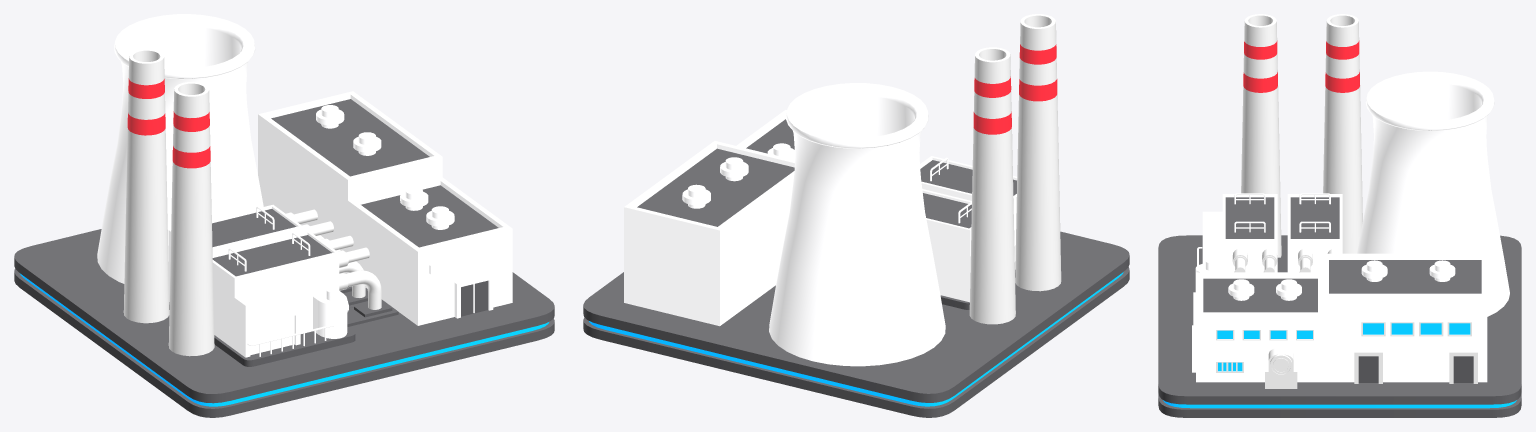
Rendered from 热源模型1.glb.
3 renders of one model, left to right at view 1: azimuth 30°, elevation 25°; view 2: azimuth 150°, elevation 25°; view 3: azimuth 270°, elevation 25°, orthographic. The views are drawn at different scales.
Visible parts, largest first — view 1: SM_ReYuan; view 2: SM_ReYuan; view 3: SM_ReYuan.
Part boxes in pixels (<box>): SM_ReYuan: <box>14,14,554,417</box>; SM_ReYuan: <box>583,14,1129,417</box>; SM_ReYuan: <box>1158,14,1521,417</box>.
Bounding box in the file's own units: 0.1845 × 0.137 × 0.1761.
